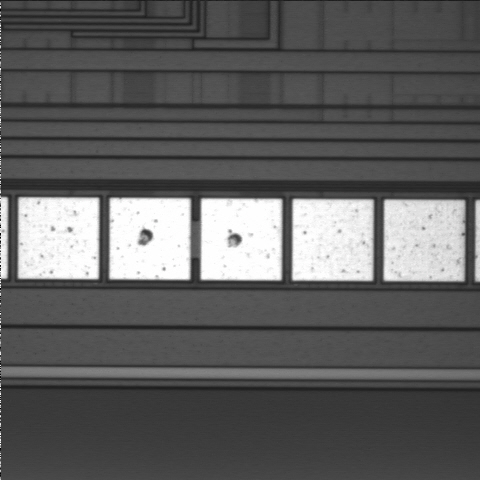pad: (109, 198, 191, 280), (18, 197, 99, 279), (292, 199, 373, 281), (201, 199, 282, 280), (384, 200, 464, 281)
